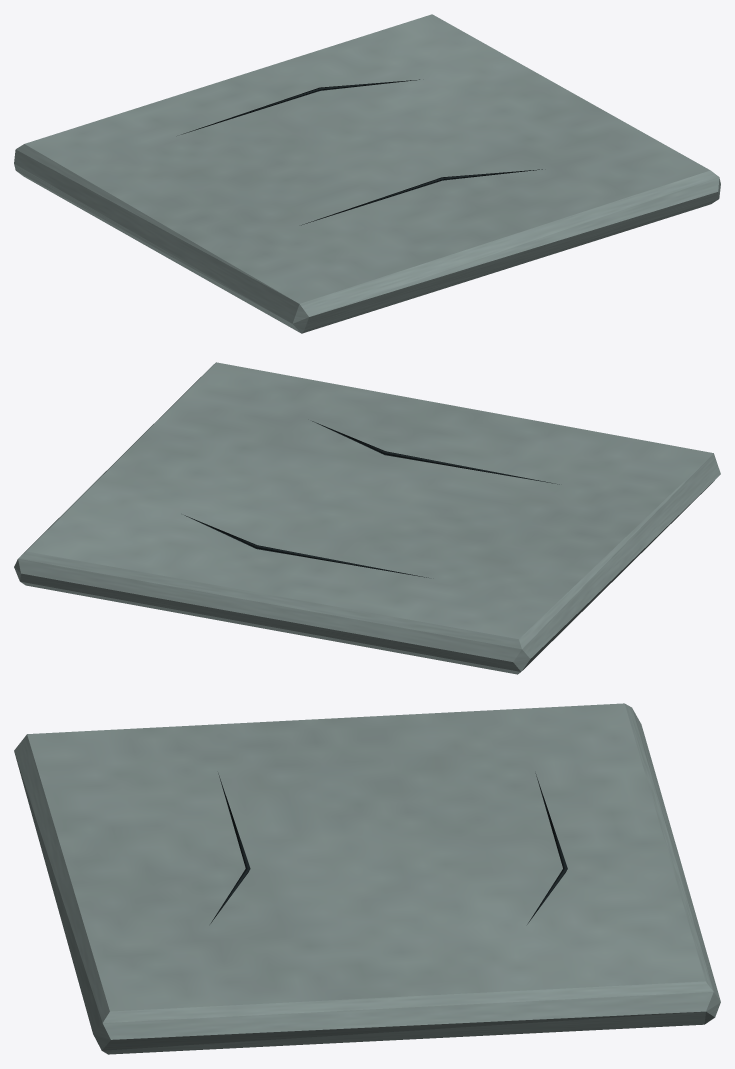
Rendered from SM_lane_paver_LOD2.fbx.
The picture shows the model from 3 angles, top to bottom: view 1: azimuth 30°, elevation 25°; view 2: azimuth 150°, elevation 25°; view 3: azimuth 270°, elevation 25°; orthographic projection. The views are drawn at different scales.
Visible parts, largest first — view 1: SM_lane_paver_LOD2; view 2: SM_lane_paver_LOD2; view 3: SM_lane_paver_LOD2.
Part boxes in pixels (x1,y1,x2,y2): SM_lane_paver_LOD2: (14,14,720,333); SM_lane_paver_LOD2: (14,362,720,674); SM_lane_paver_LOD2: (14,703,720,1054).
Size of the model in its own units: 0.8636 by 0.8021 by 0.0636.
